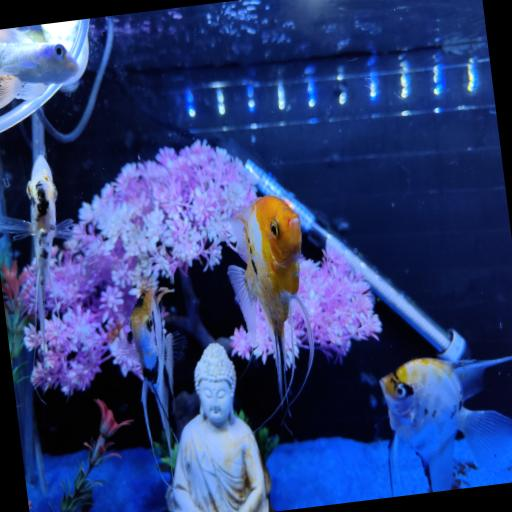Fish: (380, 357, 511, 494), (227, 196, 313, 404), (0, 155, 73, 352), (129, 288, 185, 458), (0, 28, 78, 108)
